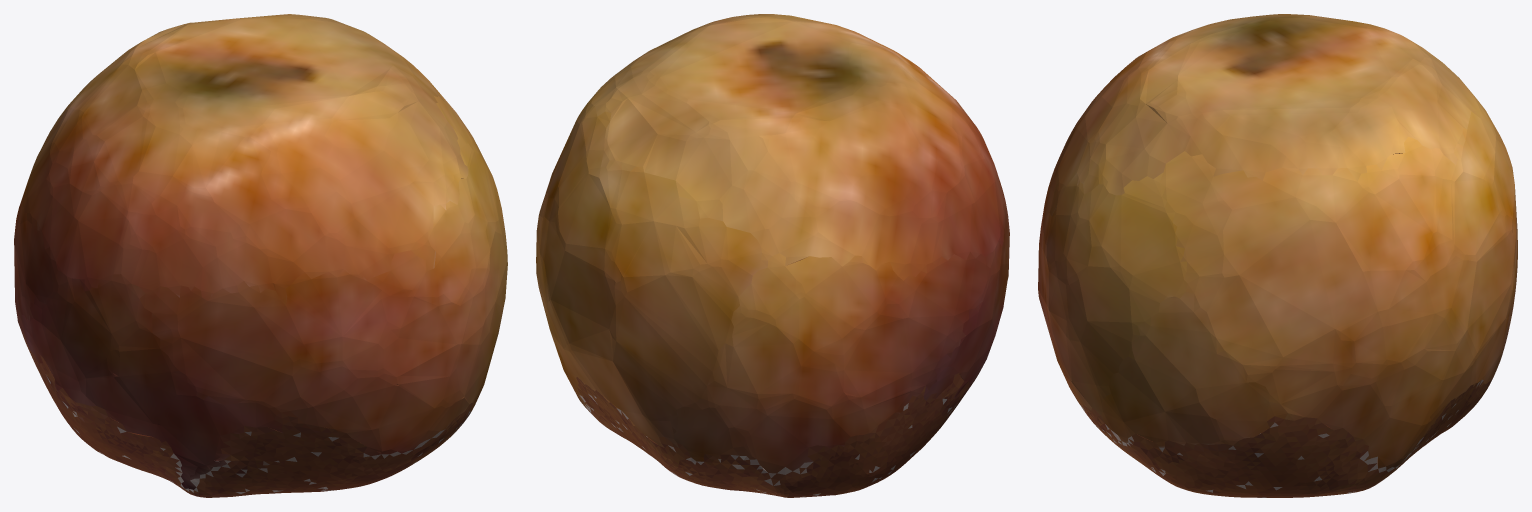
The model's file is apple.dae.
3 renders of one model, left to right at view 1: azimuth 30°, elevation 25°; view 2: azimuth 150°, elevation 25°; view 3: azimuth 270°, elevation 25°, orthographic. The views are drawn at different scales.
Parts seen in each view (by area): view 1: apple; view 2: apple; view 3: apple.
Boxes of the visible parts, x1,y1,x2,y2 form: apple: (14,14,507,497); apple: (536,14,1009,497); apple: (1038,14,1517,497).
Size of the model in its own units: 0.0848 by 0.0828 by 0.0726.
1 material, 1 textured.
